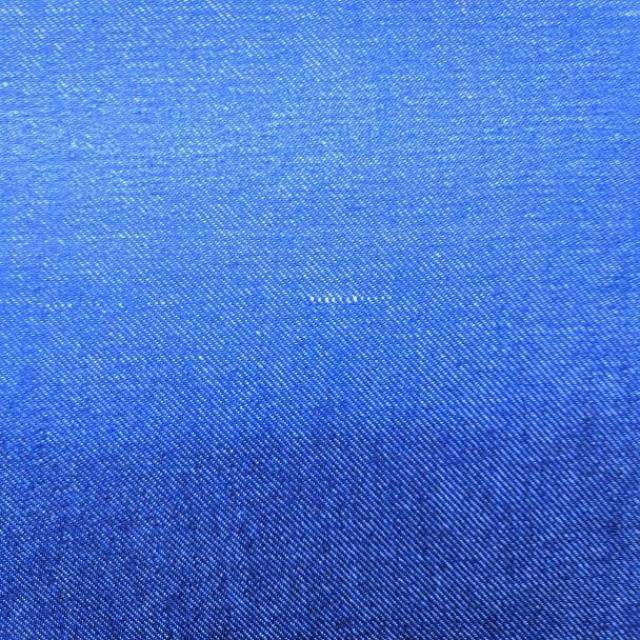Knot: (307, 294, 391, 306)
